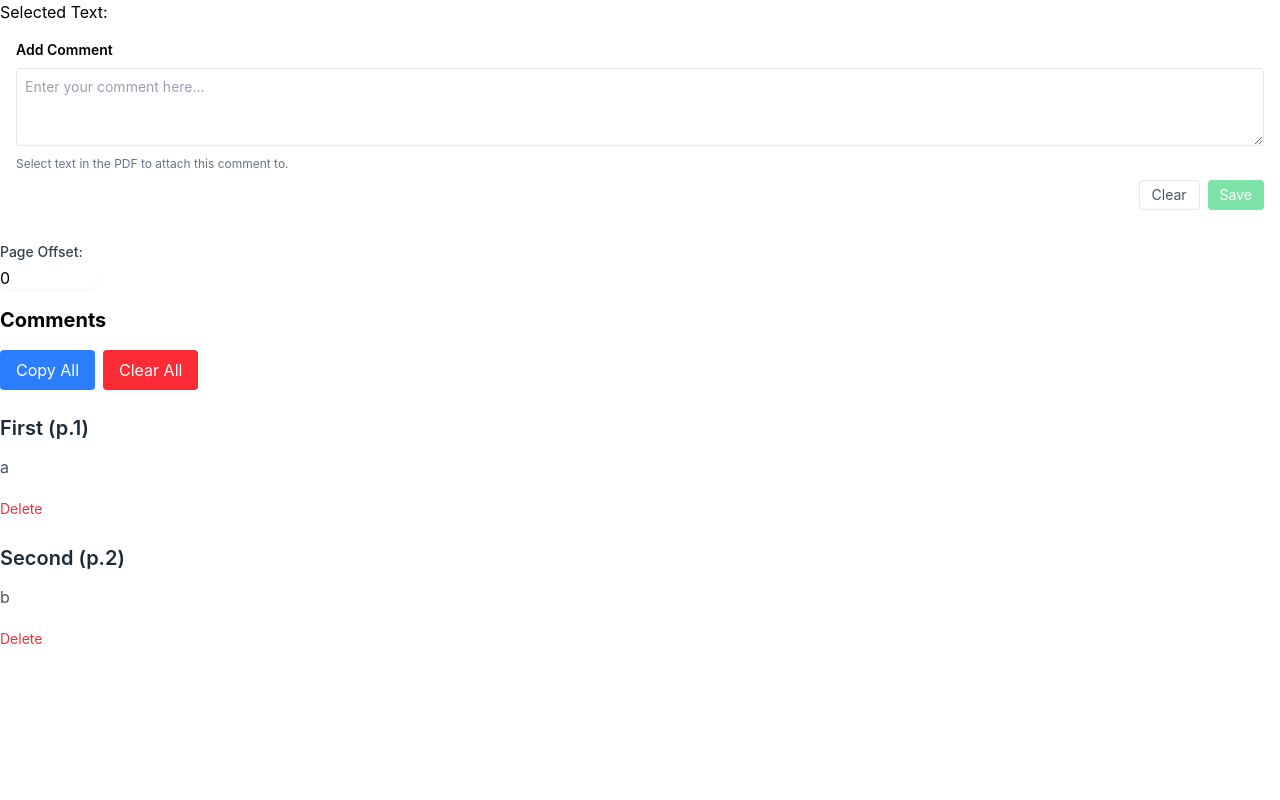
CommentList › Clear All (#39) › asks for confirmation before clearing
What coordinates should you click on to do the following:
click the button "Clear All"
I would click on:
 (151, 370)
Its box is [103,350,198,390].
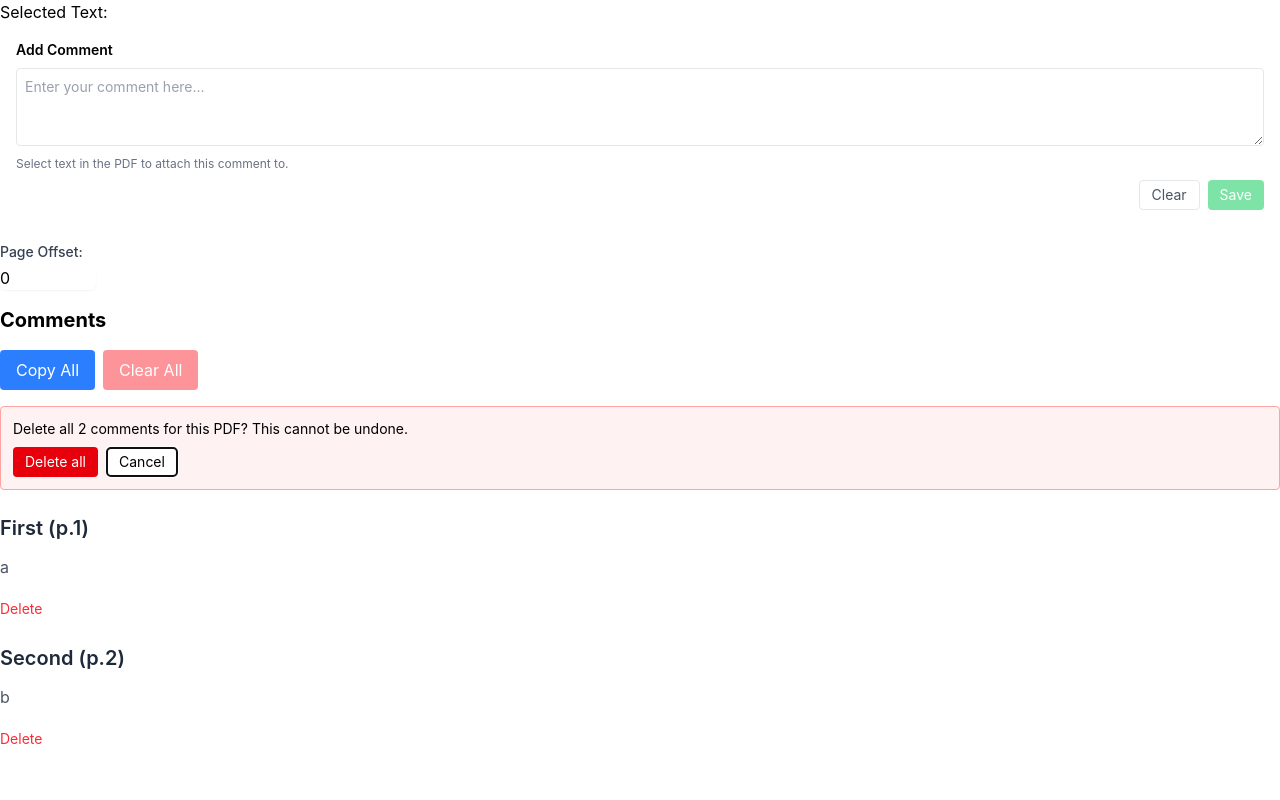
Expected: the dialog shows "Delete all 2 comments for this PDF?", [0,406,1279,490]
What coordinates should you click on to do the following:
click the button "Delete all"
I would click on:
 (56, 462)
Its box is [13,447,98,477].
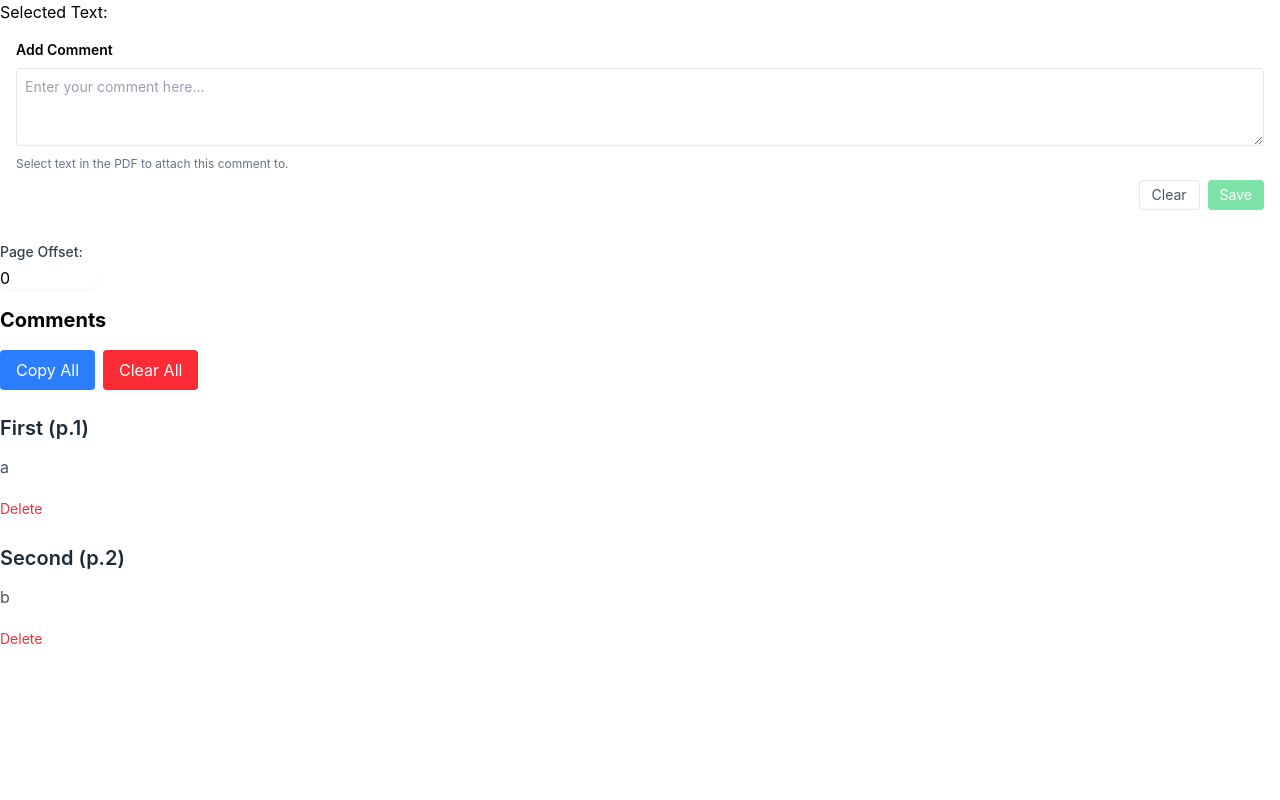
Expected: the dialog is gone
